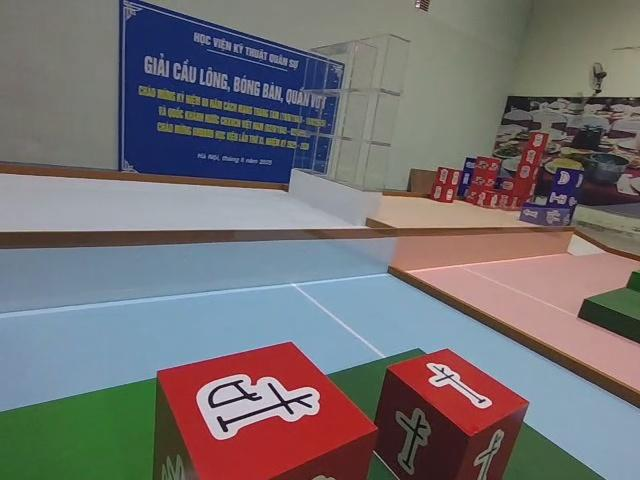R2 Real: (155, 341, 378, 480), (373, 349, 531, 480)
